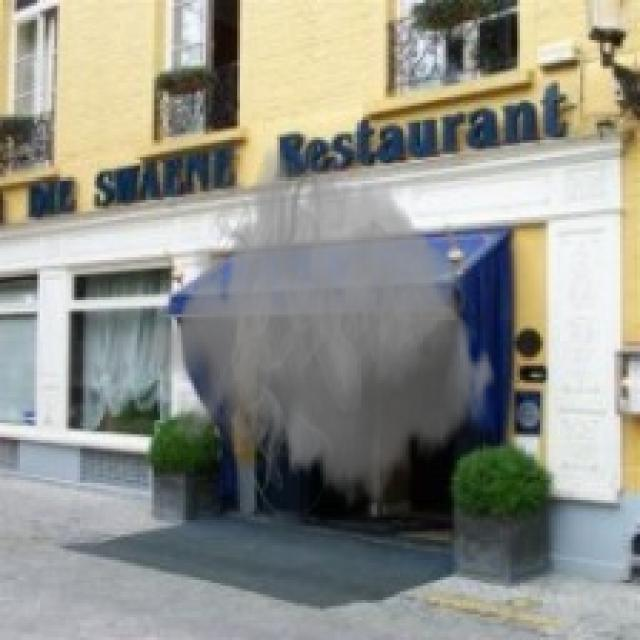Smoke: (137, 132, 497, 537)
